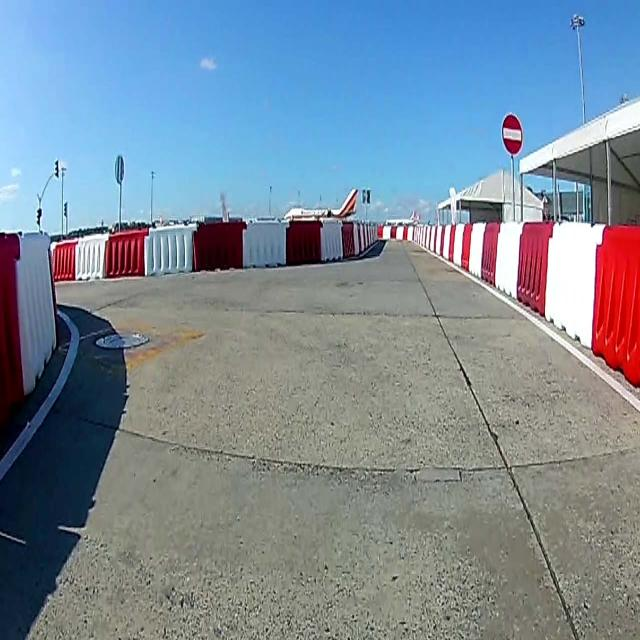girisyok: (501, 111, 523, 157)
